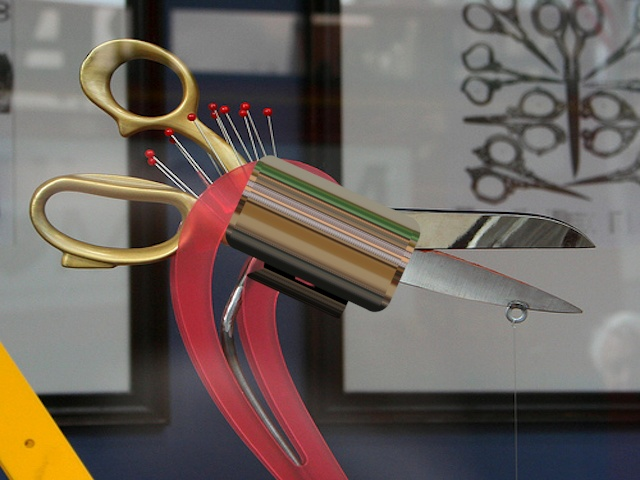monitor: (224, 145, 432, 320)
